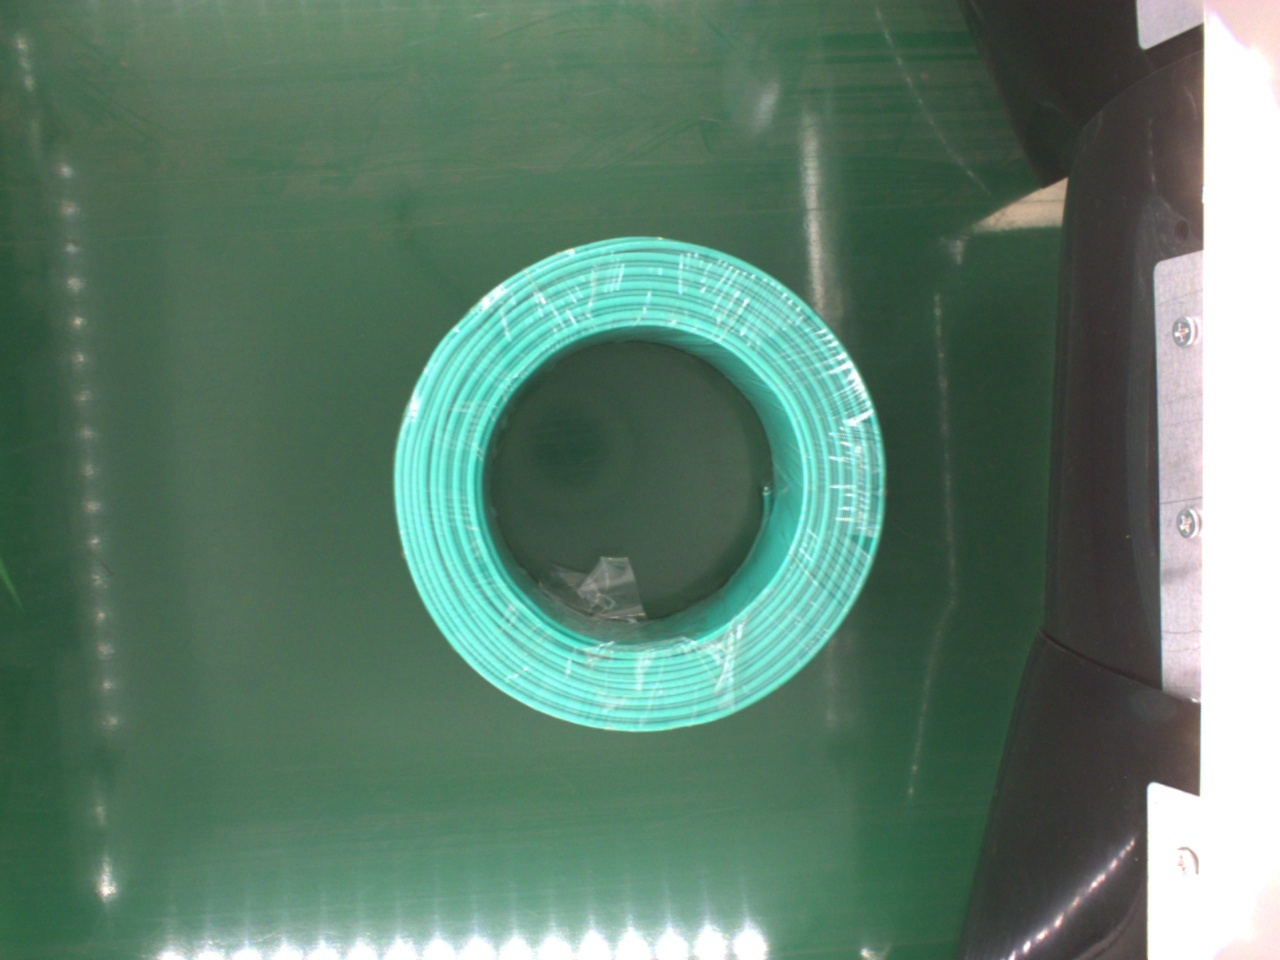green: (389, 235, 889, 736)
